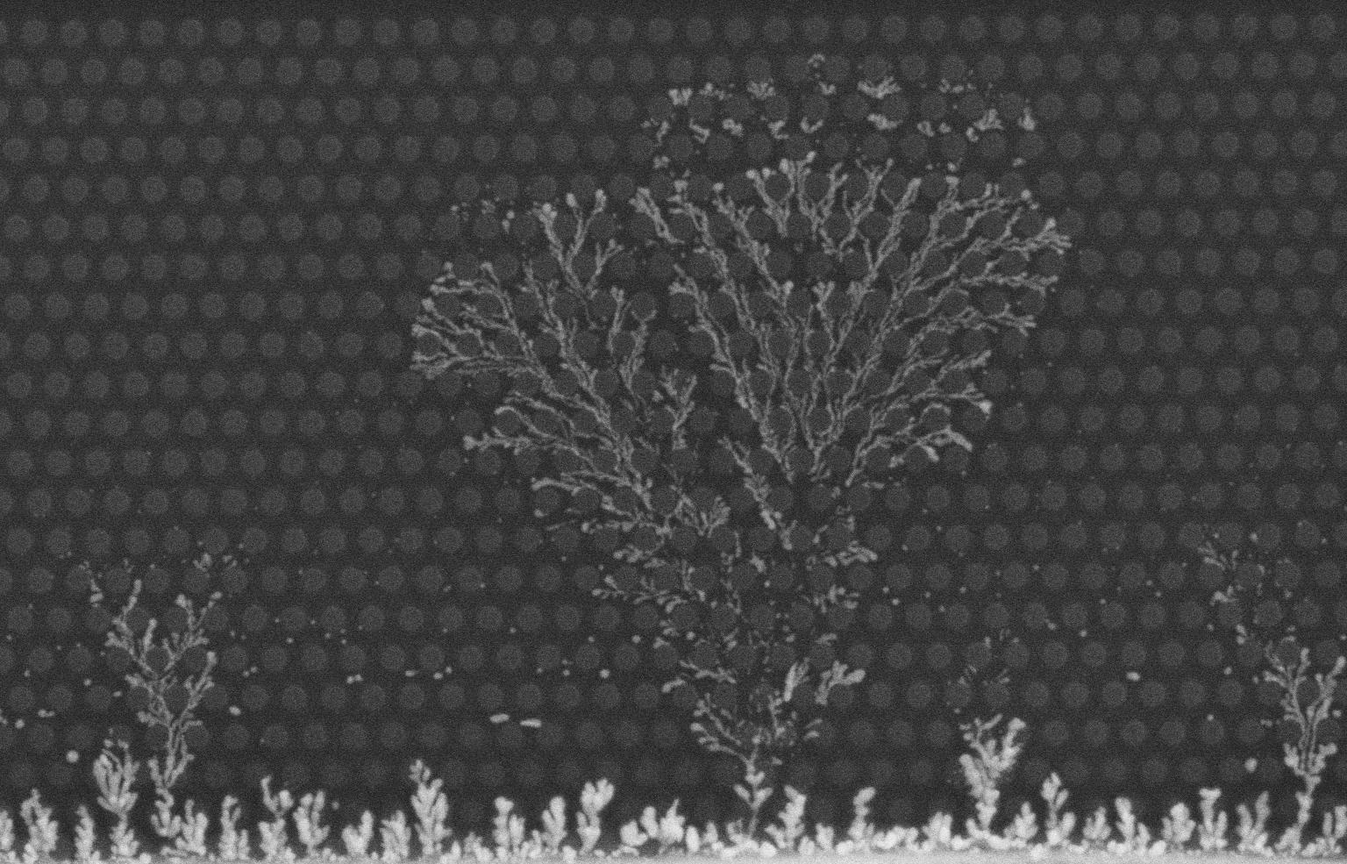Dendrite: (744, 149, 1073, 486), (653, 89, 801, 486), (495, 256, 680, 566), (811, 347, 996, 544), (590, 529, 772, 685), (110, 580, 220, 838), (1265, 650, 1346, 854), (747, 538, 881, 649), (737, 632, 838, 752), (636, 432, 736, 540), (775, 658, 868, 766), (717, 435, 802, 549), (692, 723, 773, 838), (959, 714, 1025, 848), (959, 714, 1025, 837), (431, 279, 535, 355), (620, 368, 699, 456), (664, 676, 739, 749), (94, 741, 138, 858), (531, 196, 580, 285), (409, 760, 451, 858), (413, 349, 543, 378), (630, 187, 687, 244), (463, 425, 560, 458), (620, 306, 657, 390), (865, 401, 933, 446), (258, 775, 293, 860), (576, 779, 614, 855), (20, 788, 58, 862), (735, 764, 773, 837), (835, 788, 877, 853), (765, 787, 806, 852), (860, 194, 896, 265), (566, 190, 605, 253), (293, 790, 329, 858), (413, 297, 460, 349), (1040, 772, 1073, 846), (1302, 804, 1346, 857), (1108, 797, 1149, 853), (1237, 791, 1270, 854), (566, 284, 608, 332), (175, 799, 209, 857), (1069, 807, 1111, 853), (219, 796, 249, 860), (584, 236, 620, 289), (721, 821, 775, 856), (1199, 788, 1227, 851), (1161, 802, 1196, 849), (606, 285, 629, 354), (381, 810, 410, 862), (342, 810, 373, 858), (75, 803, 100, 862), (542, 796, 567, 853), (1005, 801, 1038, 844), (659, 800, 685, 852), (511, 830, 555, 859), (457, 323, 500, 352), (493, 797, 513, 855), (922, 811, 951, 850), (872, 826, 917, 850), (413, 345, 446, 377), (0, 806, 18, 863), (620, 821, 649, 849), (465, 833, 493, 861), (702, 822, 723, 853), (478, 260, 502, 285), (640, 806, 658, 838), (473, 197, 495, 222), (510, 814, 524, 853), (815, 823, 833, 851), (432, 261, 453, 284), (684, 826, 700, 853), (441, 840, 460, 862), (797, 836, 819, 854), (704, 821, 718, 847), (951, 836, 974, 851), (612, 845, 638, 856), (561, 846, 577, 862), (1149, 841, 1166, 855), (584, 287, 599, 301), (1180, 823, 1181, 824), (528, 273, 528, 274)
